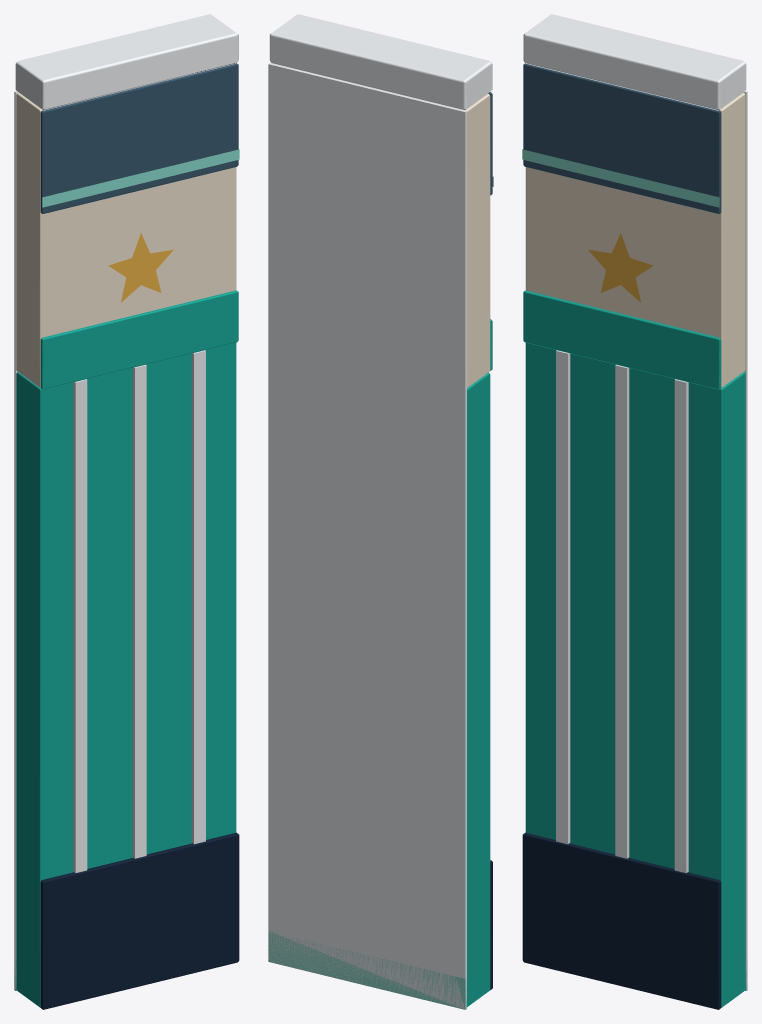
Rendered from CM_Shell_FacadePanel.fbx.
The picture shows the model from 3 angles, left to right: view 1: azimuth 30°, elevation 25°; view 2: azimuth 150°, elevation 25°; view 3: azimuth 330°, elevation 25°; orthographic projection.
Parts seen in each view (by area): view 1: Body; view 2: Body; view 3: Body.
Boxes of the visible parts, bbox=[...] form: Body: bbox=[14, 14, 239, 1009]; Body: bbox=[268, 14, 493, 1009]; Body: bbox=[522, 14, 747, 1009].
Size of the model in its own units: 4 by 1 by 18.
Materials: 1 (1 with a texture image).
